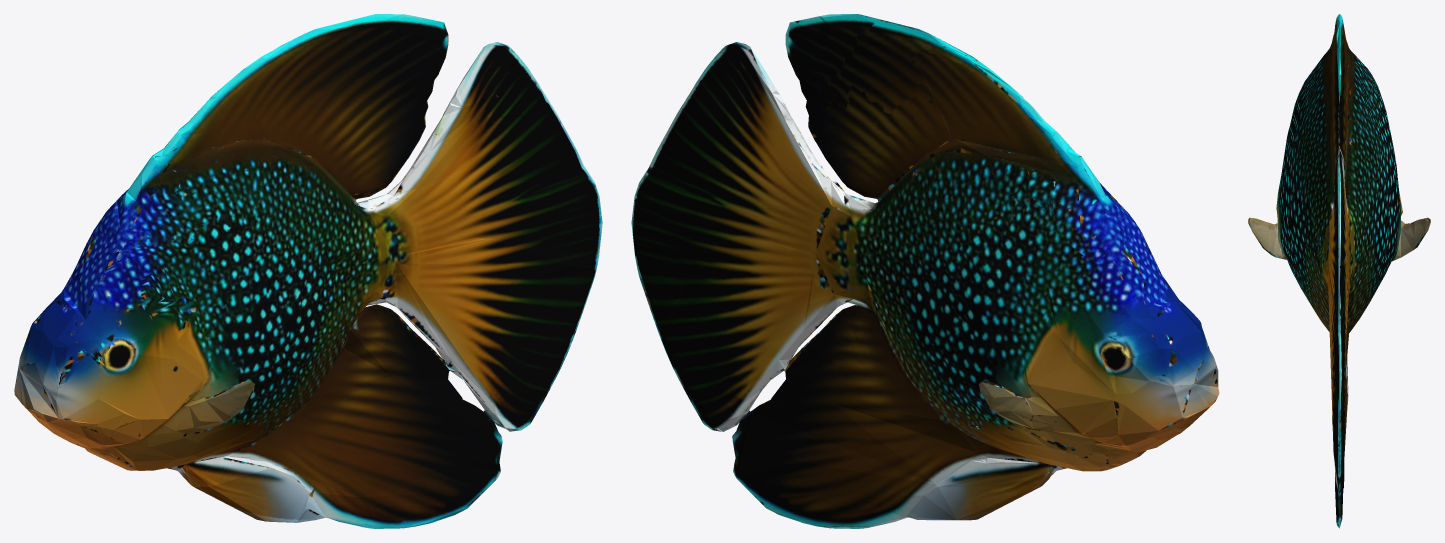
File: fish_0054_smpl23_resized.glb
3 views of the same model, side by side, from view 1: azimuth 30°, elevation 25°; view 2: azimuth 150°, elevation 25°; view 3: azimuth 270°, elevation 25° (orthographic). The views are drawn at different scales.
Parts seen in each view (by area): view 1: world; view 2: world; view 3: world.
Part boxes in pixels (x1,y1,x2,y2): world: (14, 14, 602, 528); world: (631, 14, 1219, 528); world: (1248, 14, 1430, 528).
Bounding box in the file's own units: 1.99 × 1.72 × 0.6368.
Materials: 1 (1 with a texture image).
